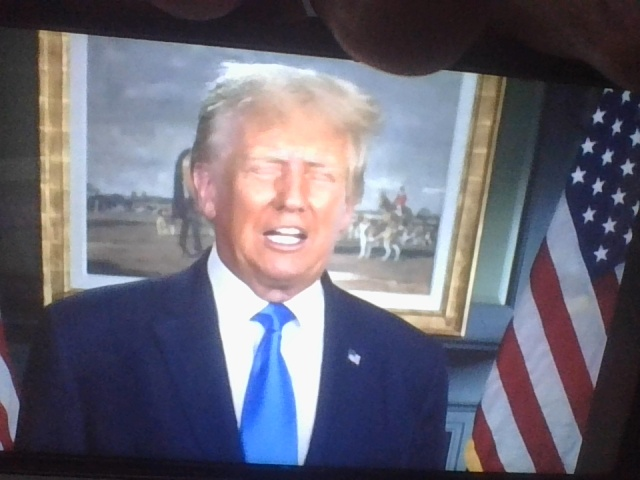fake: (200, 54, 368, 292)
